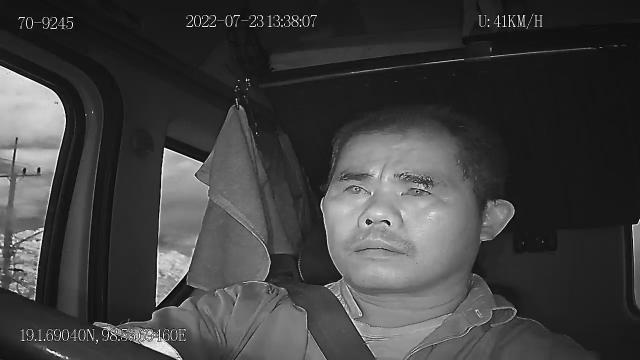SafeDriving: (392, 170, 442, 205), (336, 172, 376, 202)
Seatbelt: (284, 283, 378, 360)
